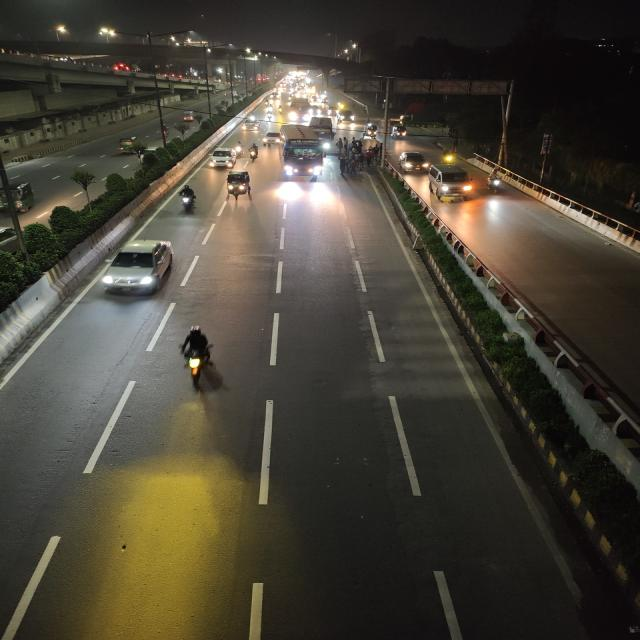bus: (280, 128, 323, 181), (313, 120, 335, 158), (288, 99, 312, 122)
car: (99, 235, 173, 301), (427, 162, 473, 204), (397, 152, 428, 176), (208, 144, 235, 168), (261, 130, 283, 146), (243, 119, 259, 132), (336, 111, 356, 121)
cng: (222, 170, 258, 201), (114, 137, 139, 153), (365, 124, 381, 138), (393, 125, 407, 139), (182, 110, 196, 123)
motorcycle: (170, 322, 229, 397), (172, 188, 207, 218), (488, 167, 505, 191), (236, 140, 246, 160), (248, 142, 258, 162), (444, 148, 454, 162)
pedestrian: (336, 154, 352, 178), (343, 152, 359, 176), (353, 154, 366, 177), (332, 138, 344, 158), (349, 135, 358, 156), (340, 136, 350, 152)
